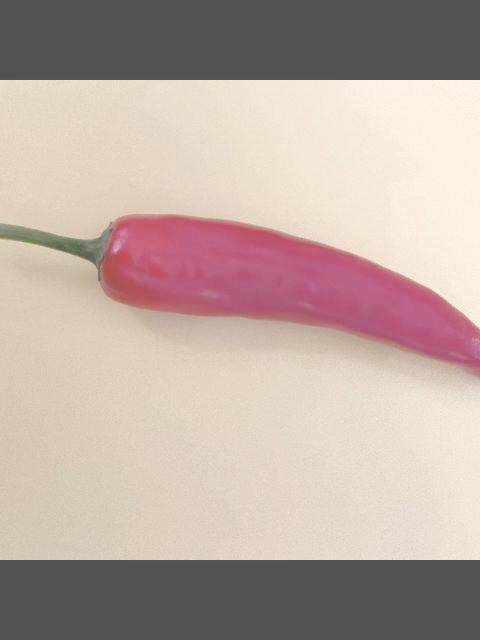chilli: (0, 202, 480, 383)
